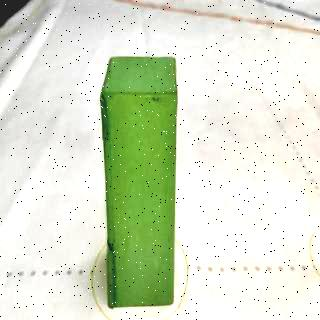greenbox: (98, 54, 179, 308)
